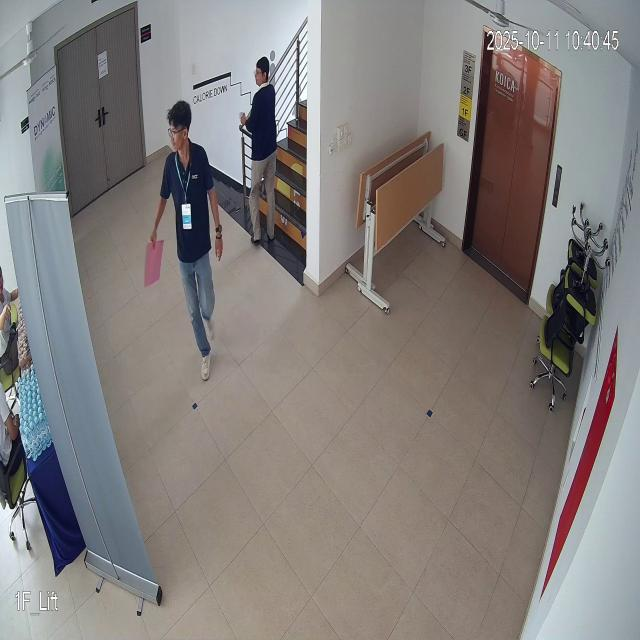face: (164, 90, 194, 154)
